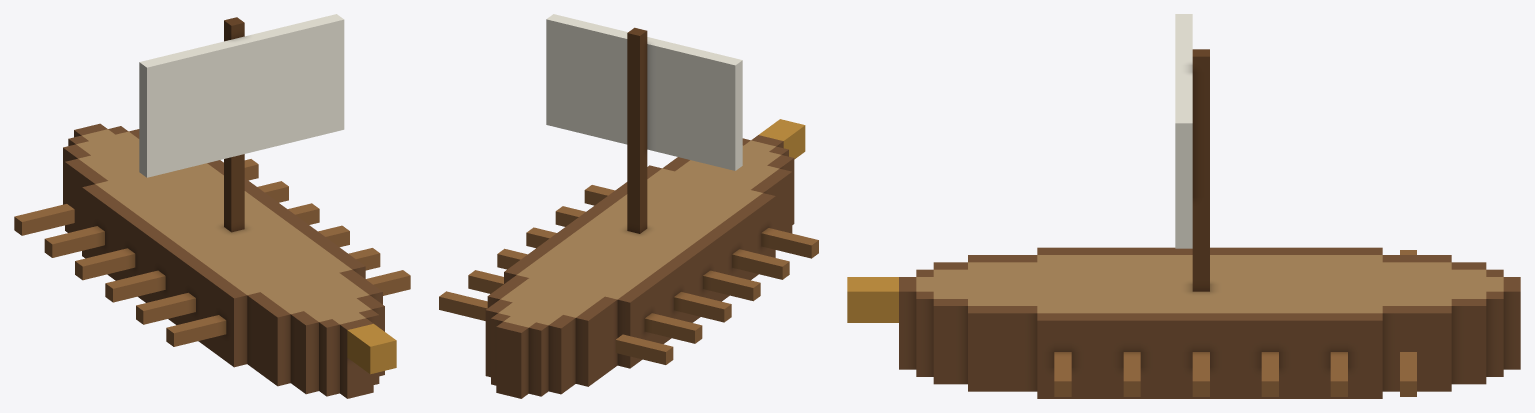
Rendered from u_galley.glb.
3 renders of one model, left to right at view 1: azimuth 30°, elevation 25°; view 2: azimuth 150°, elevation 25°; view 3: azimuth 270°, elevation 25°, orthographic. The views are drawn at different scales.
Parts seen in each view (by area): view 1: u_galley_body; view 2: u_galley_body; view 3: u_galley_body.
Part boxes in pixels (x1,y1,x2,y2): u_galley_body: (14,14,410,398); u_galley_body: (439,14,818,398); u_galley_body: (847,14,1520,398).
Size of the model in its own units: 1.12 by 1.25 by 2.44.
Materials: 1 (1 with a texture image).
